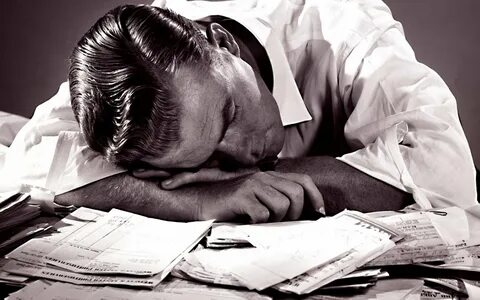sleep: (12, 1, 478, 225)
